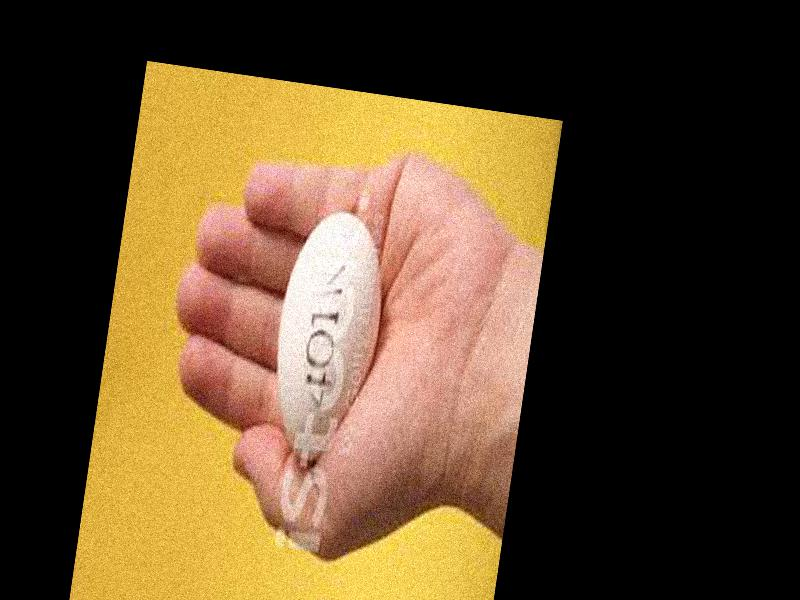Eggs: (262, 205, 393, 468)
